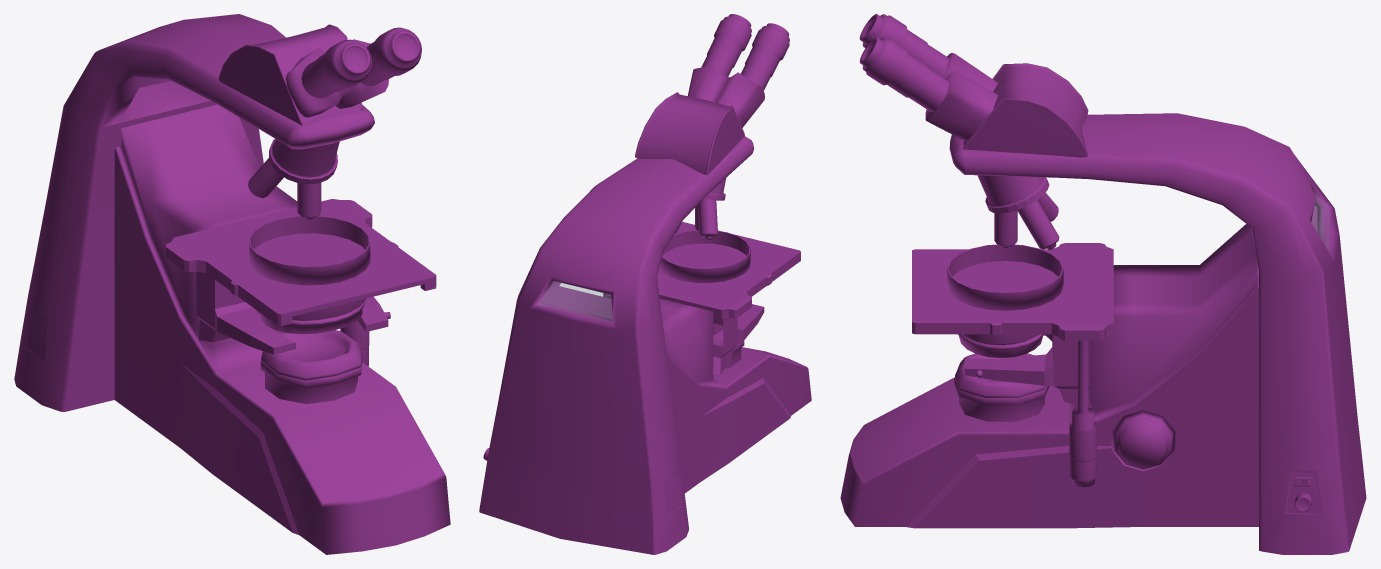
File: Microscope_PetriDish (1).fbx
3 renders of one model, left to right at view 1: azimuth 30°, elevation 25°; view 2: azimuth 150°, elevation 25°; view 3: azimuth 270°, elevation 25°, orthographic. The views are drawn at different scales.
Parts seen in each view (by area): view 1: Microscope1_pCube3, Stand2, Metal_PLatform2, PetriDish, Microscope1_pCylinder2, Lens_holding_bits_bit2, Lens2, Microscope_pCube10, LensHolding_bit2, Microscope1_pCylinder7, Microscope1_pCylinder5, Scope (+2 smaller); view 2: Stand2, Microscope1_pCube3, Lens_holding_bits_bit2, Metal_PLatform2, PetriDish, Lens2, LensHolding_bit2, Glass, Microscope_pCube10, Scope1; view 3: Microscope1_pCube3, Stand2, Metal_PLatform2, Lens_holding_bits_bit2, PetriDish, Lens2, Microscope_pCube10, Microscope1_pCylinder2, LensHolding_bit2, pCylinder3, pCylinder10, Microscope1_pCylinder7 (+3 smaller).
Part boxes in pixels (<box>): Microscope1_pCube3: <box>114,104,450,554</box>; Stand2: <box>14,14,374,411</box>; Metal_PLatform2: <box>166,199,436,326</box>; PetriDish: <box>249,216,370,285</box>; Microscope1_pCylinder2: <box>260,330,362,403</box>; Lens_holding_bits_bit2: <box>218,24,362,125</box>; Lens2: <box>301,27,421,98</box>; Microscope_pCube10: <box>196,271,388,354</box>; LensHolding_bit2: <box>285,39,388,117</box>; Microscope1_pCylinder7: <box>269,139,339,184</box>; Microscope1_pCylinder5: <box>261,298,366,334</box>; Scope: <box>297,182,321,219</box>; Stand2: <box>479,136,753,554</box>; Microscope1_pCube3: <box>607,295,811,493</box>; Lens_holding_bits_bit2: <box>635,92,744,175</box>; Metal_PLatform2: <box>657,222,800,318</box>; PetriDish: <box>659,230,750,282</box>; Lens2: <box>701,14,789,90</box>; LensHolding_bit2: <box>688,66,764,127</box>; Glass: <box>537,281,612,322</box>; Microscope_pCube10: <box>712,304,764,374</box>; Scope1: <box>698,199,717,240</box>; Microscope1_pCube3: <box>840,224,1258,528</box>; Stand2: <box>949,113,1366,554</box>; Metal_PLatform2: <box>912,243,1113,340</box>; Lens_holding_bits_bit2: <box>962,63,1088,157</box>; PetriDish: <box>947,244,1063,310</box>; Lens2: <box>859,14,948,112</box>; Microscope_pCube10: <box>964,334,1091,408</box>; Microscope1_pCylinder2: <box>954,353,1049,421</box>; LensHolding_bit2: <box>925,53,998,141</box>; pCylinder3: <box>1111,410,1175,471</box>; pCylinder10: <box>1069,340,1097,487</box>; Microscope1_pCylinder7: <box>977,175,1049,213</box>.
Bounding box in the file's own units: 21.43 × 40.09 × 40.59.
